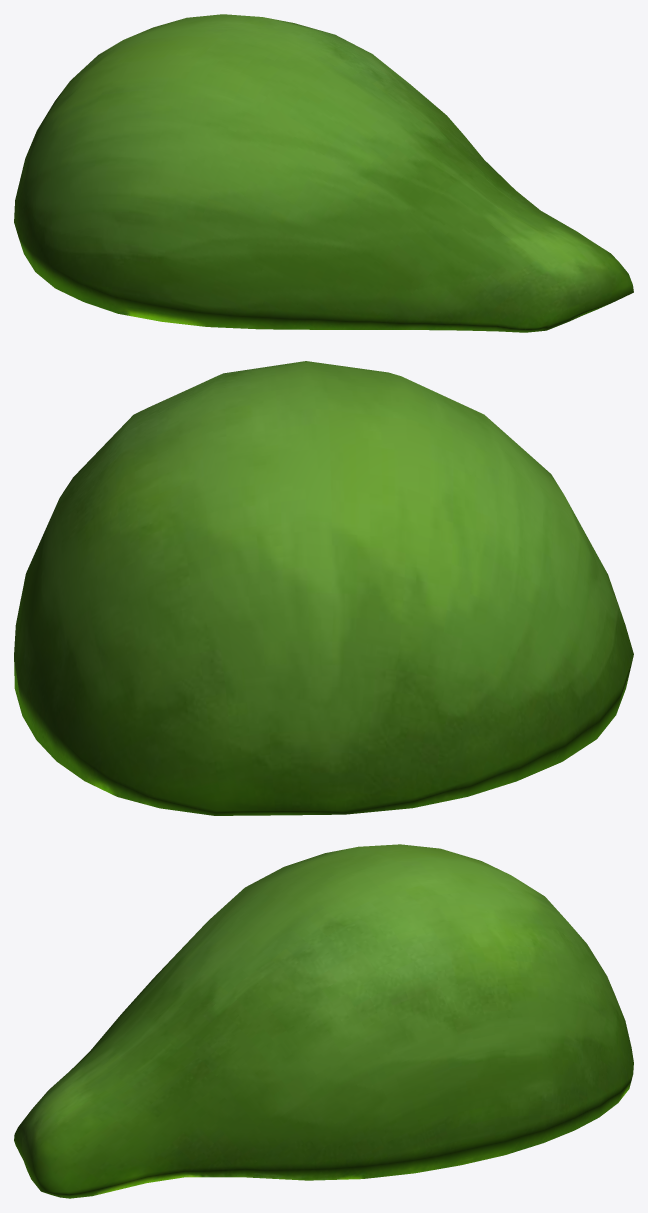
The model's file is avocado_from_studio.glb.
3 views of the same model, one above another, from view 1: azimuth 30°, elevation 25°; view 2: azimuth 150°, elevation 25°; view 3: azimuth 270°, elevation 25° (orthographic). The views are drawn at different scales.
Parts seen in each view (by area): view 1: Avocado; view 2: Avocado; view 3: Avocado.
Part boxes in pixels (x1,y1,x2,y2): Avocado: [14, 14, 633, 332]; Avocado: [14, 361, 633, 815]; Avocado: [14, 844, 633, 1198].
Bounding box in the file's own units: 48.88 × 27.62 × 57.4.
1 material, 1 textured.
